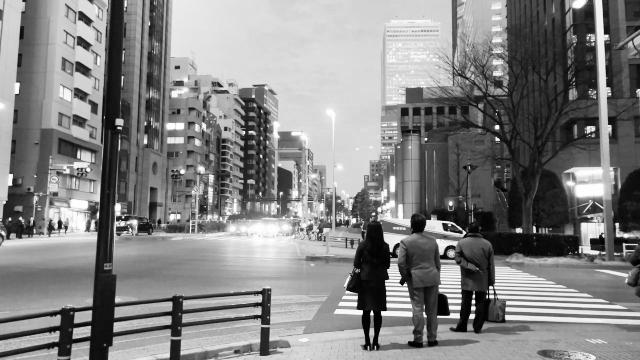berdiri: (341, 206, 391, 354), (396, 210, 444, 348), (451, 219, 504, 333)
